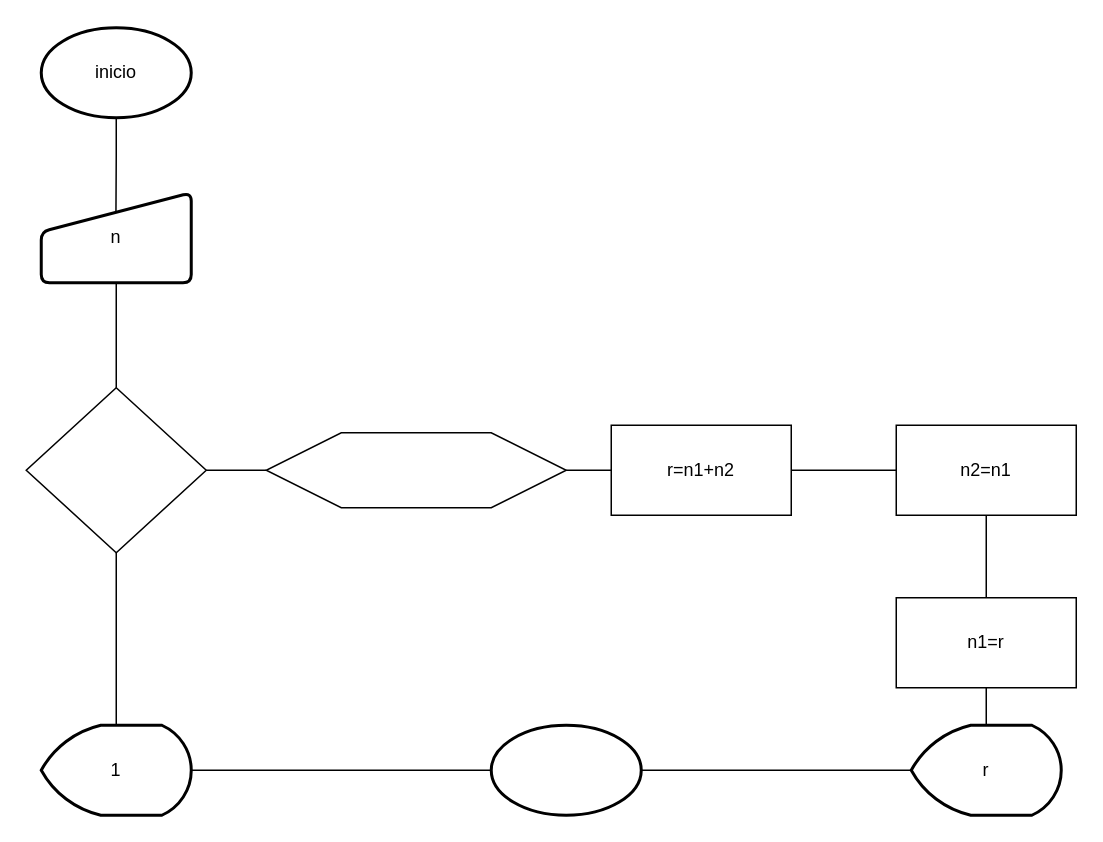
This 1103x842 diagram has some shape labels left out. Here are the shapes that lost their labels. From the top down, the centre of each, then its label:
At (115,469): "n!=1 e n!=2".
At (415,469): "inteiro x=3; x<=n; x=x+1".
At (565,769): "Fim".
